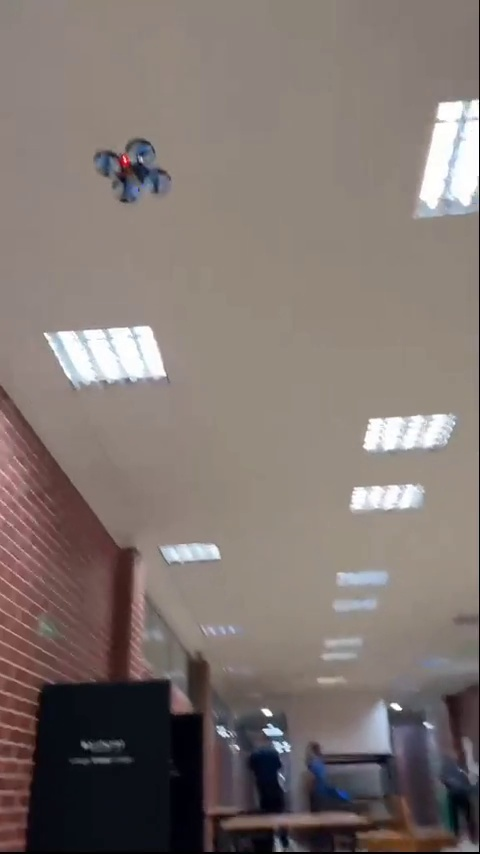drone: (93, 138, 177, 205)
no vest: (242, 733, 306, 811), (301, 733, 349, 802), (435, 748, 475, 809)
